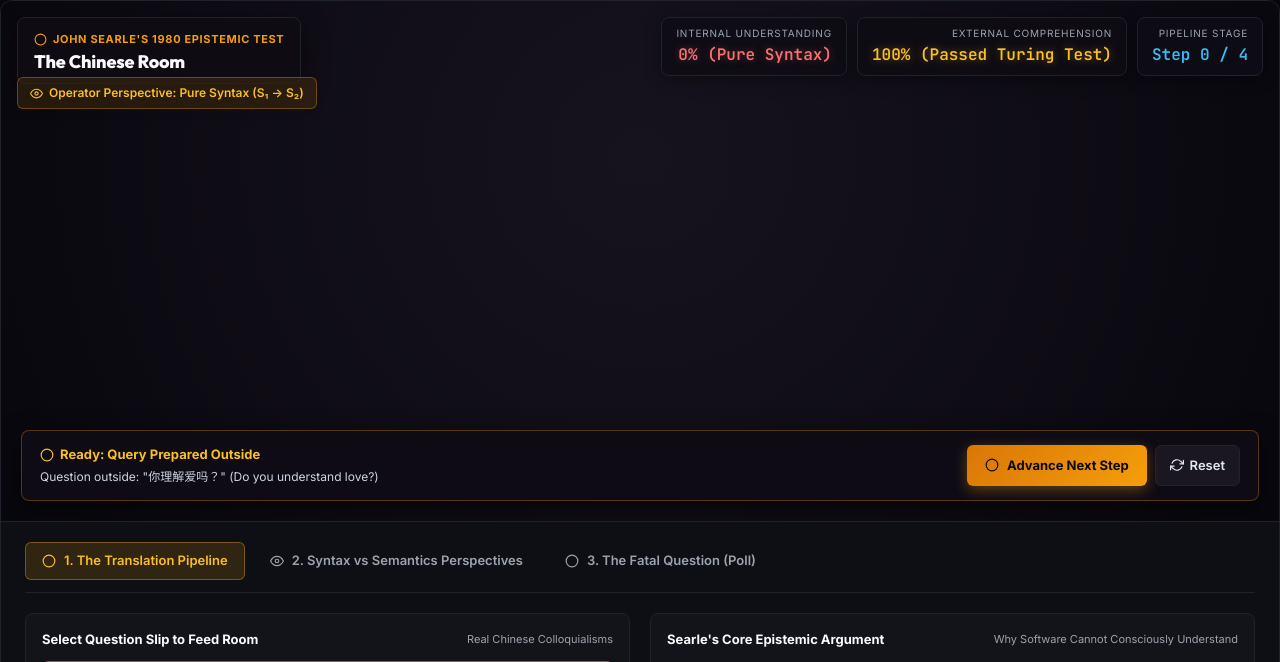
it: ChineseRoom3DLab › advances through the translation pipeline step by step
The width and height of the screenshot is (1280, 662).
Expected: the text "Ready: Query Prepared Outside" is shown, [40, 446, 260, 462]
Click the button with aria-label "Advance Pipeline Step". click: x=1057, y=465
box: [967, 444, 1147, 486]
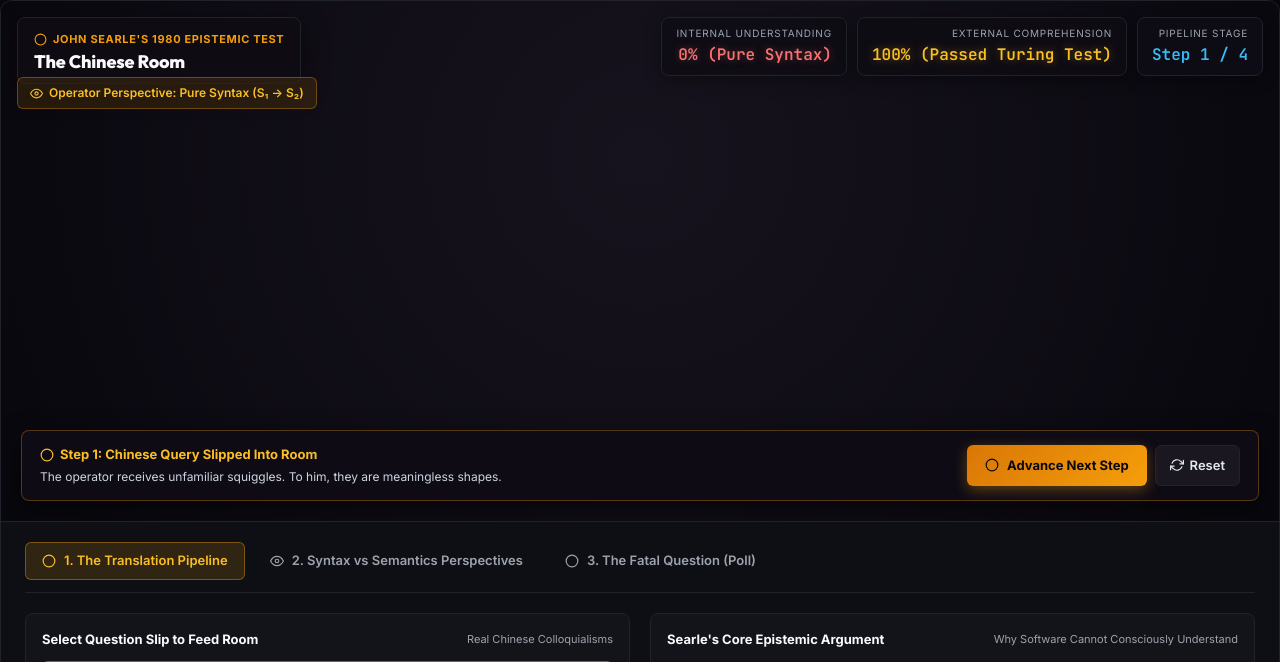
Expected: the text "Step 1: Chinese Query Slipped Into Room" is shown, [40, 446, 317, 462]
Click the button with aria-label "Advance Pipeline Step". click: x=1057, y=465
box: [967, 444, 1147, 486]
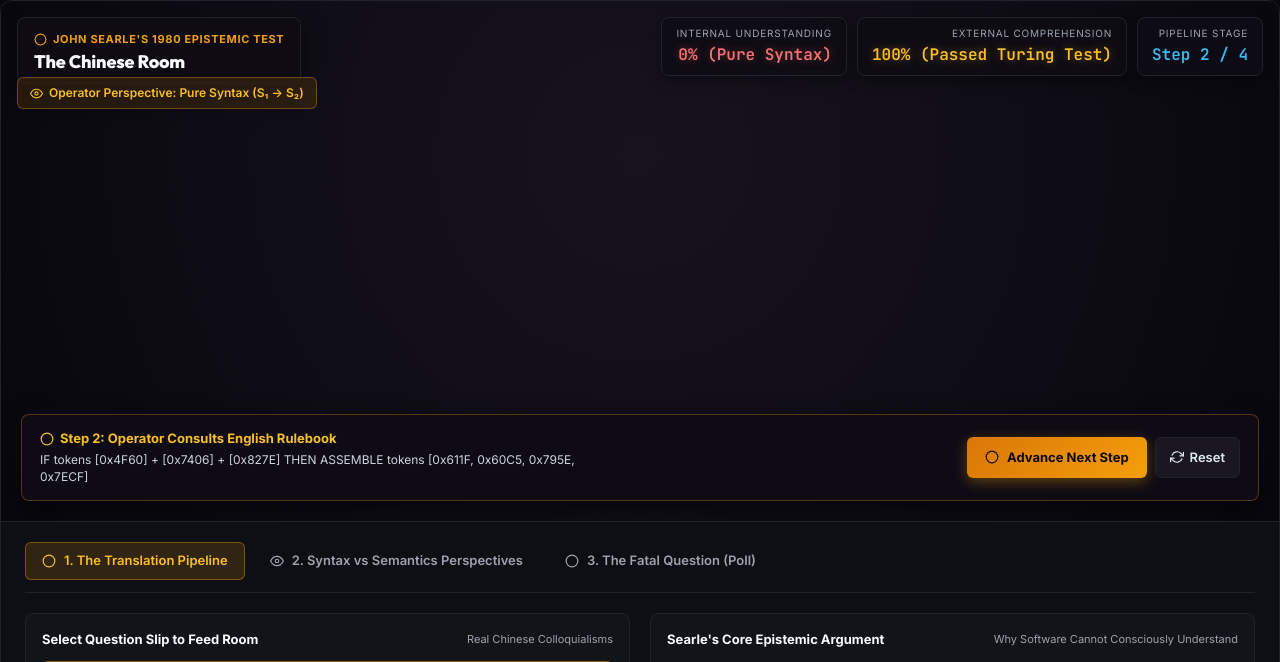
Expected: the text "Step 2: Operator Consults English Rulebook" is shown, [40, 430, 336, 446]
Click the button with aria-label "Advance Pipeline Step". click: x=1057, y=457
box: [967, 437, 1147, 478]
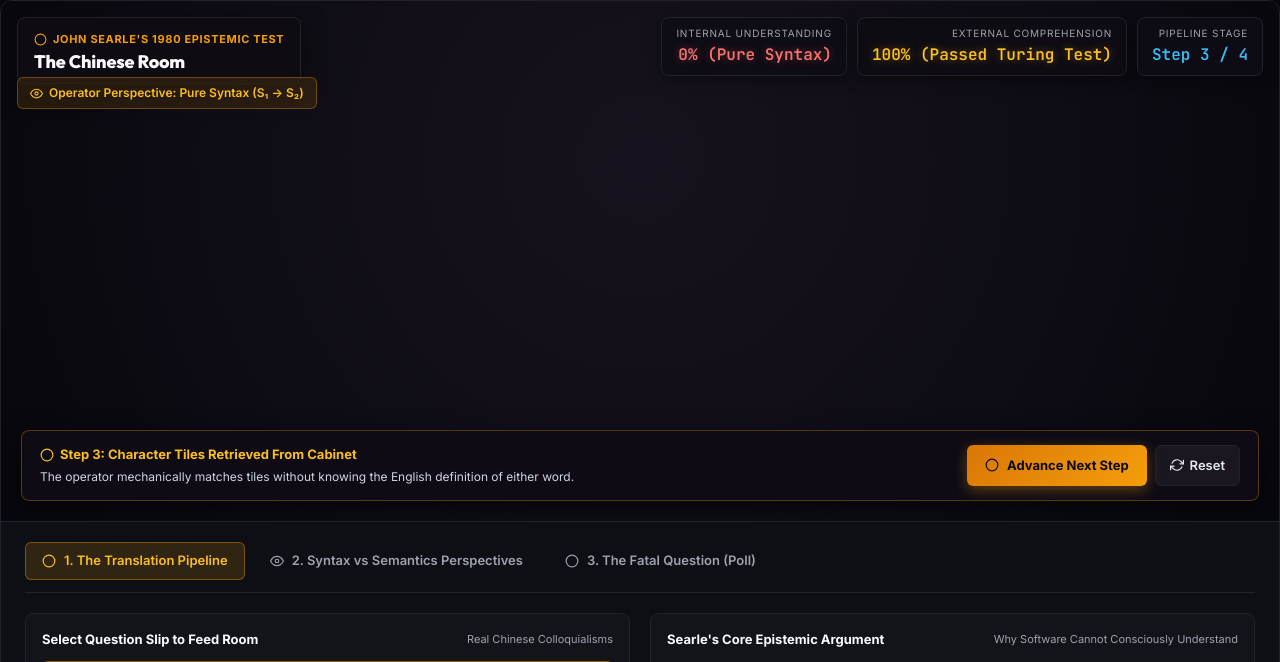
Expected: the text "Step 3: Character Tiles Retrieved From Cabinet" is shown, [40, 446, 357, 462]
Click the button with aria-label "Advance Pipeline Step". click: x=1057, y=465
box: [967, 444, 1147, 486]
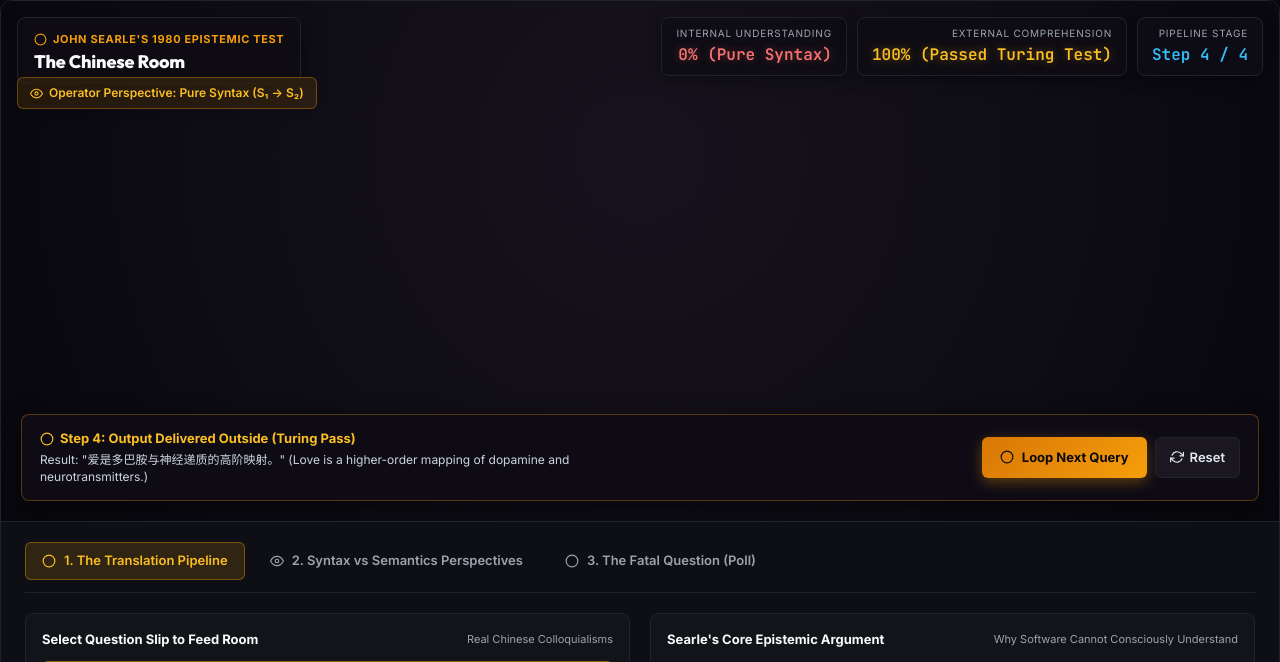
Expected: the text "Step 4: Output Delivered Outside (Turing Pass)" is shown, [40, 430, 356, 446]
